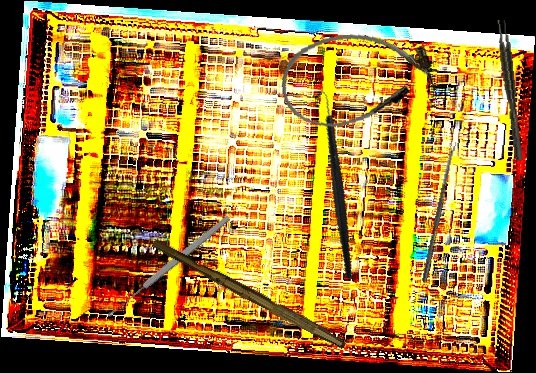Cannula: (274, 23, 440, 134)
Chopper: (272, 85, 394, 280)
Scalpel Handle: (149, 237, 350, 350)
Surgical Spoon: (105, 214, 232, 319), (421, 141, 458, 283)
Tissue Forceps: (496, 19, 523, 161)
